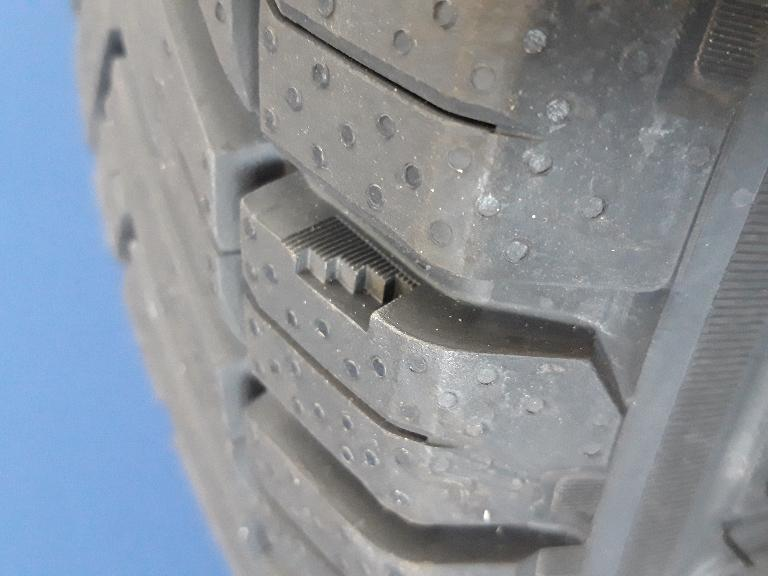temoin:100: (276, 212, 427, 340)
